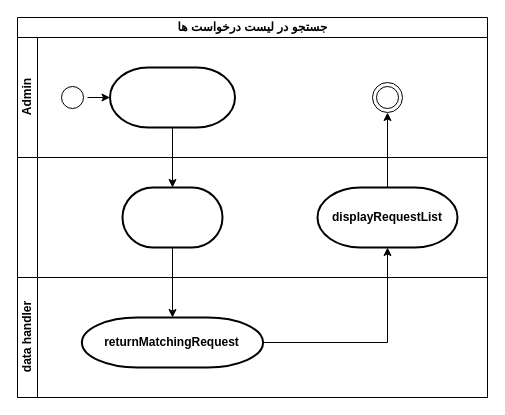
The diagram is 505 pixels wide and 415 high, and some of its shapes have lost their labels. The shapes that lost their labels are listed below. From the top down, each one's box as (x1, y1, x2, y2) in pixels, then its label:
(108, 66, 236, 128): searchInRequest
(121, 186, 223, 248): fetchRequests
(16, 156, 488, 278): system manager
